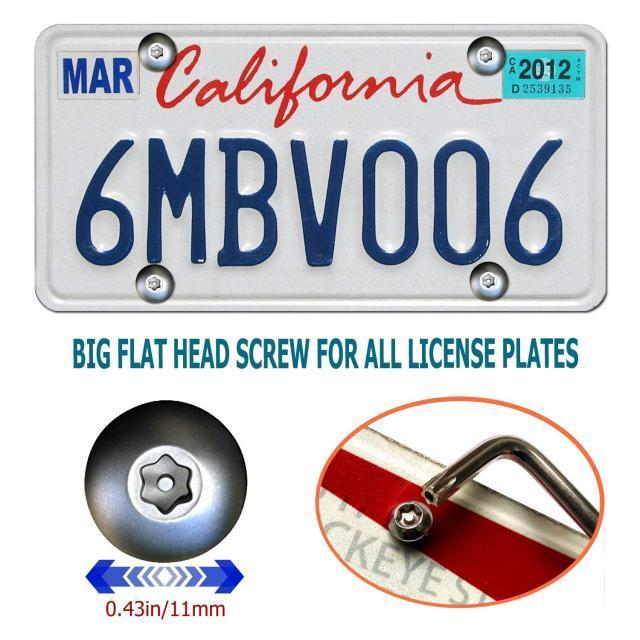License_Plate: (34, 19, 606, 316)
